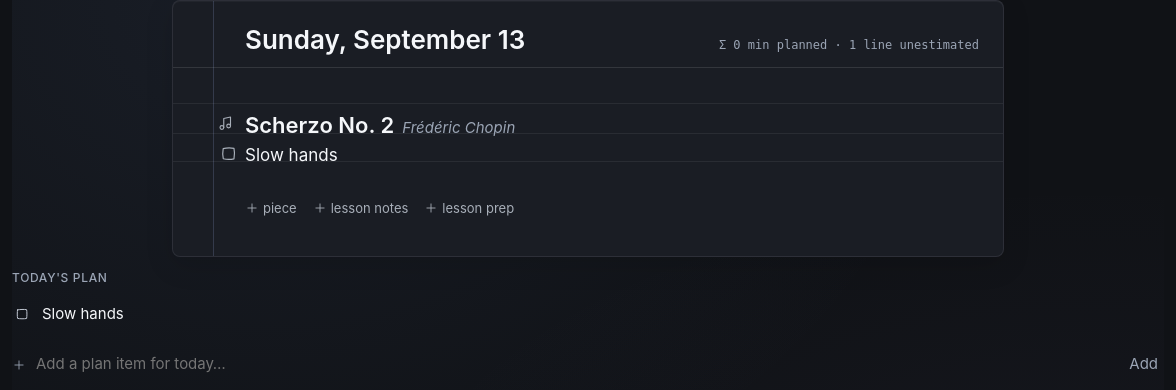
Test case: ScorePlanTab — shared-store two-way sync (spec C3) › propagates a day-sheet text edit to the Plan tab (sheet → Plan)
The width and height of the screenshot is (1176, 390).
Replace the text in the text box named "Plan item 2" with "Dotted rhythms" at (612, 155), box [245,140,979,170]
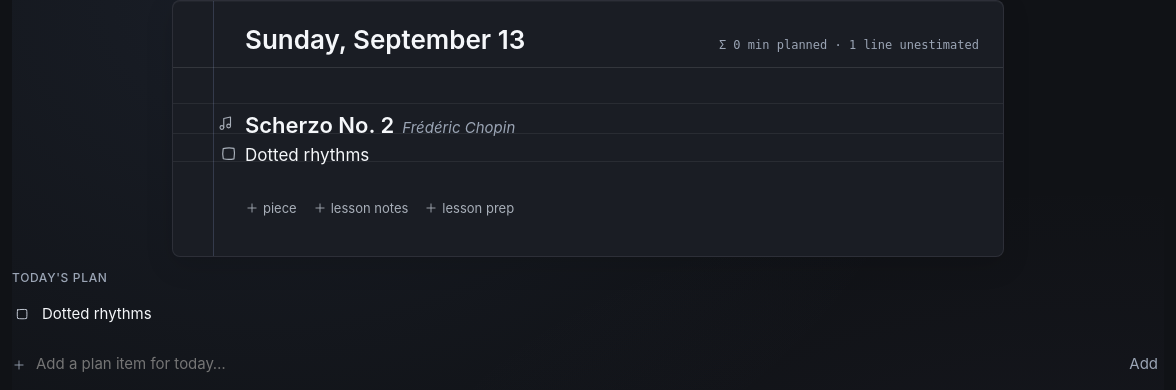
Expected: the field named "Plan item 2" holds "Dotted rhythms", [40,299,1164,329]
